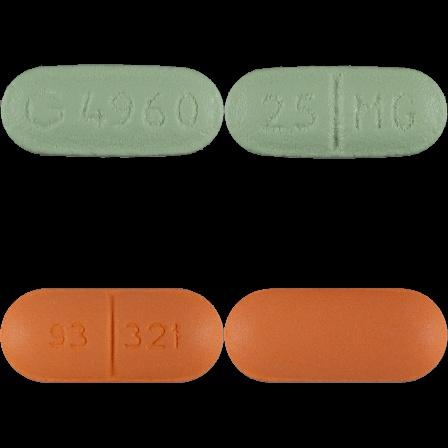0179-0104: (0, 0, 224, 224)
